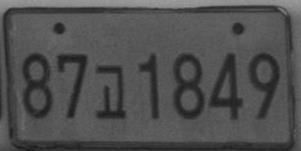1: (134, 51, 168, 119)
4: (208, 52, 243, 120)
7: (55, 52, 89, 119)
8: (171, 51, 205, 119), (20, 52, 53, 119)
9: (247, 51, 282, 120)
고: (93, 64, 127, 120)
